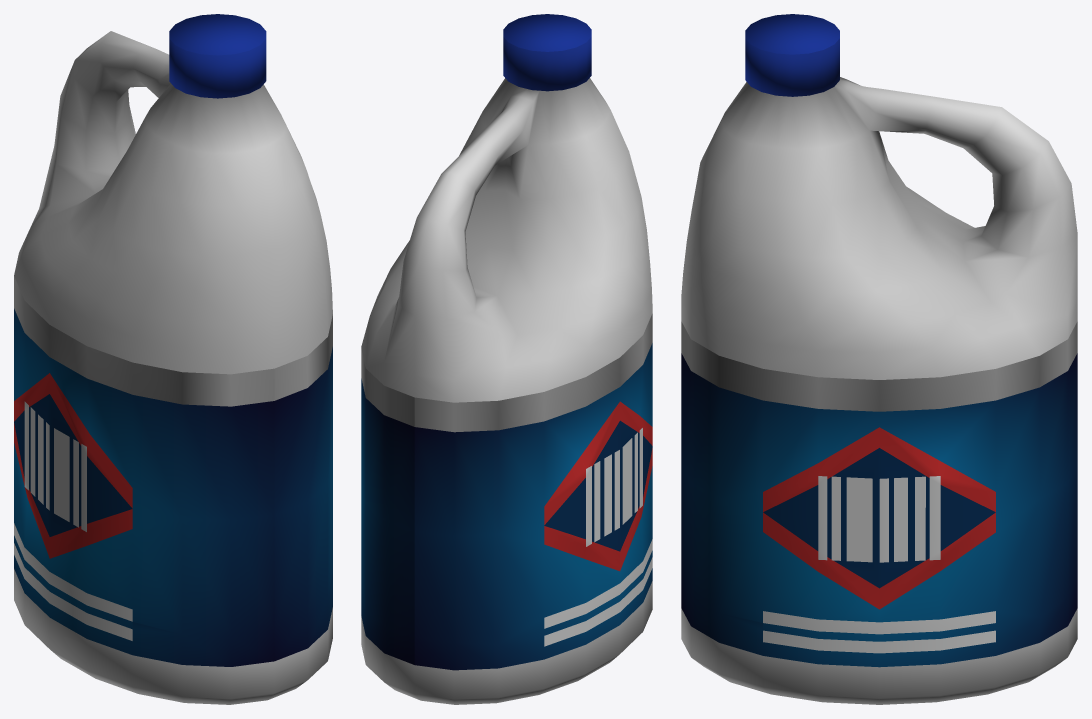
Rendered from furnishings-indoor-bleach_v1.glb.
3 views of the same model, side by side, from view 1: azimuth 30°, elevation 25°; view 2: azimuth 150°, elevation 25°; view 3: azimuth 270°, elevation 25° (orthographic). The views are drawn at different scales.
Visible parts, largest first — view 1: Bleach.001; view 2: Bleach.001; view 3: Bleach.001.
Boxes of the visible parts, x1=… form: Bleach.001: x1=14, y1=14, x2=332, y2=704; Bleach.001: x1=361, y1=14, x2=652, y2=704; Bleach.001: x1=681, y1=14, x2=1077, y2=704.
Bounding box in the file's own units: 0.8659 × 2.1 × 1.23.
